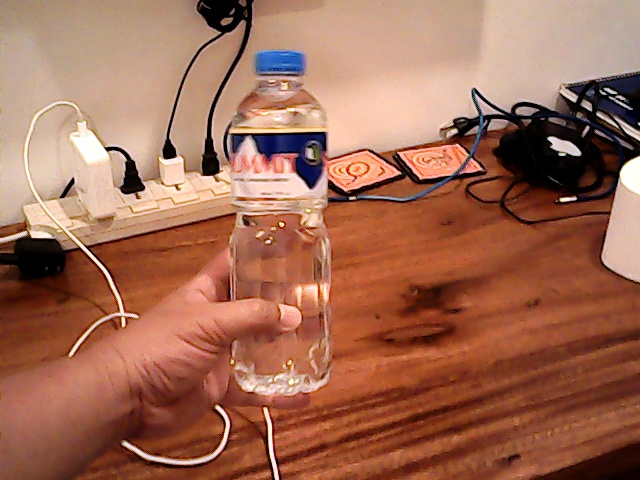Summit Water: (218, 45, 333, 406)
